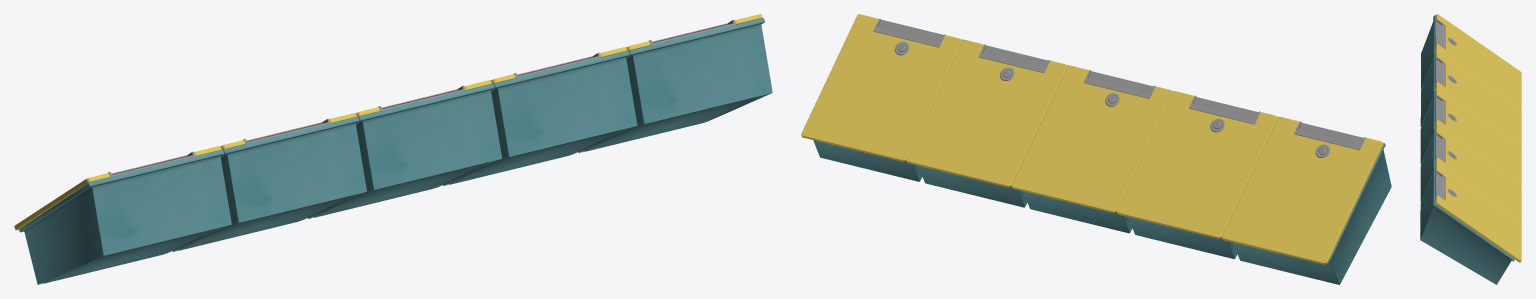
Rendered from hezi11.FBX.
The picture shows the model from 3 angles, left to right: view 1: azimuth 30°, elevation 25°; view 2: azimuth 150°, elevation 25°; view 3: azimuth 270°, elevation 25°; orthographic projection. The views are drawn at different scales.
Visible parts, largest first — view 1: hezi, gaizi; view 2: gaizi, hezi; view 3: gaizi, hezi.
Boxes of the visible parts, box(x1,y1,x2,y2) form: hezi: box(19, 18, 772, 284); gaizi: box(14, 14, 762, 230); gaizi: box(801, 14, 1383, 264); hezi: box(813, 19, 1391, 284); gaizi: box(1435, 14, 1521, 262); hezi: box(1420, 15, 1514, 284).
Bounding box in the file's own units: 60.86 × 12.64 × 13.77.
